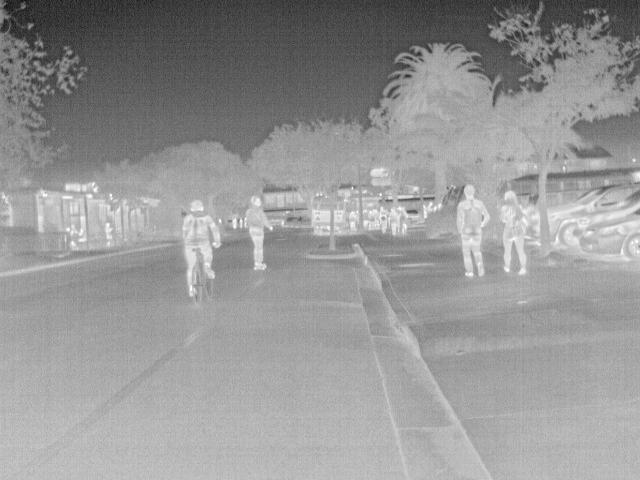car: (546, 182, 638, 249), (579, 208, 639, 263), (404, 209, 420, 222)
person: (180, 198, 222, 300), (456, 184, 489, 278), (500, 189, 530, 275), (245, 195, 277, 270), (386, 207, 401, 237), (376, 206, 390, 234), (67, 222, 80, 248), (346, 210, 360, 234), (102, 220, 114, 239), (75, 226, 88, 242)
